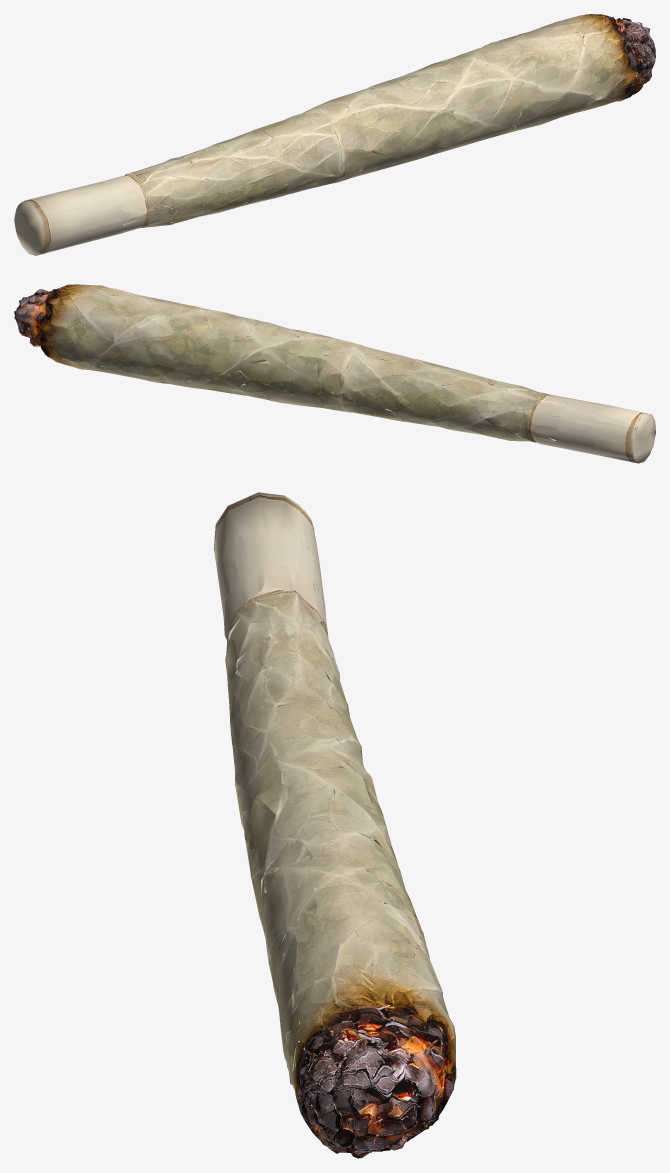
Rendered from joint.glb.
3 renders of one model, top to bottom at view 1: azimuth 30°, elevation 25°; view 2: azimuth 150°, elevation 25°; view 3: azimuth 270°, elevation 25°, orthographic. The views are drawn at different scales.
Parts seen in each view (by area): view 1: joint; view 2: joint; view 3: joint.
Boxes of the visible parts, x1=… form: joint: x1=14, y1=14, x2=655, y2=255; joint: x1=14, y1=284, x2=655, y2=463; joint: x1=213, y1=492, x2=456, y2=1158.
Size of the model in its own units: 0.17 by 0.0212 by 0.0299.
Materials: 1 (1 with a texture image).
